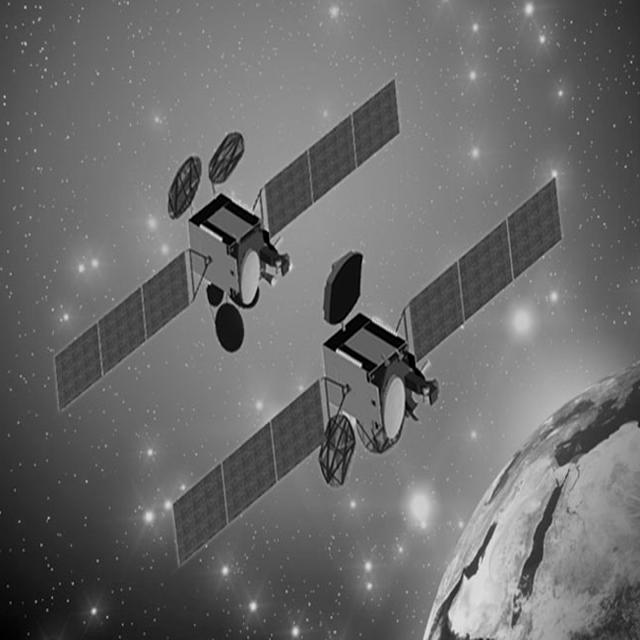satellite: (168, 156, 566, 574), (49, 67, 402, 426)
